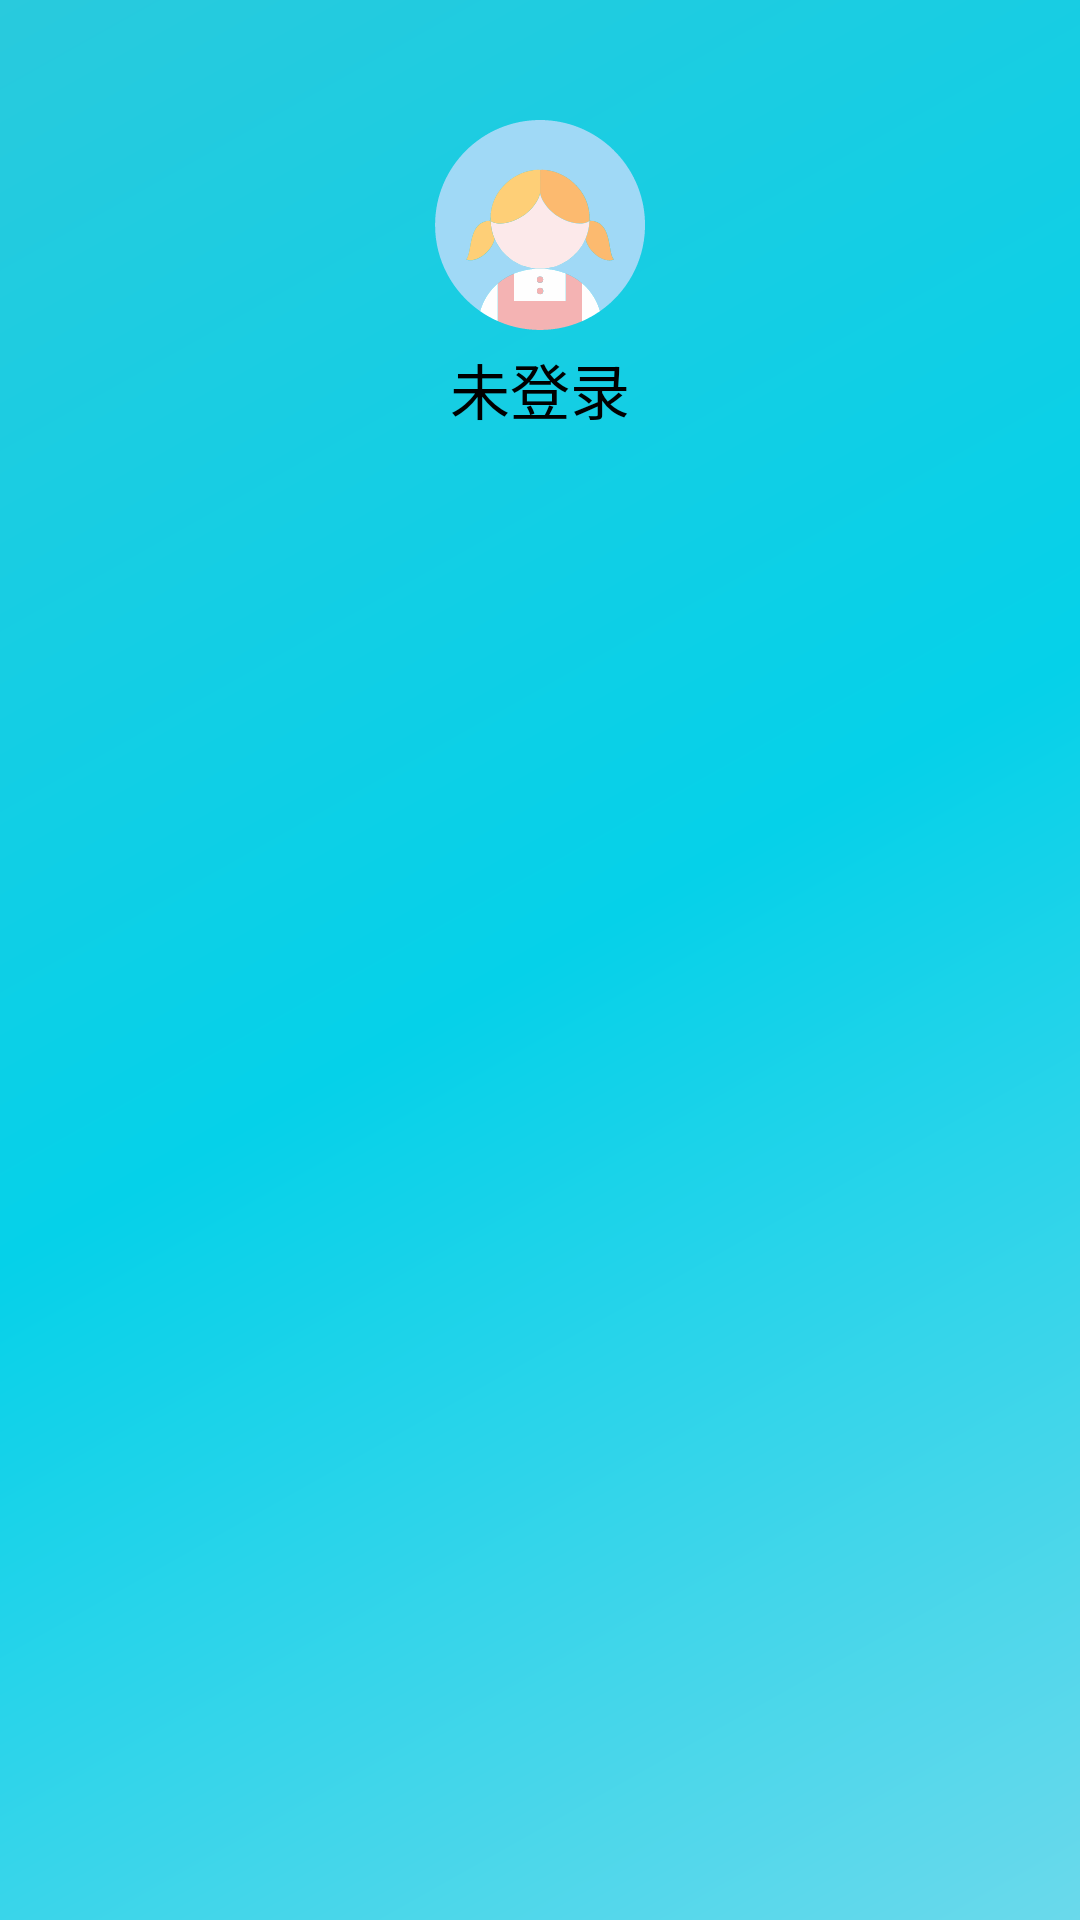

Screen size 1080px x 1920px. Icon name, then its box in pixels as box(x1, y1, x2, y2):
head: box(435, 120, 645, 330)
